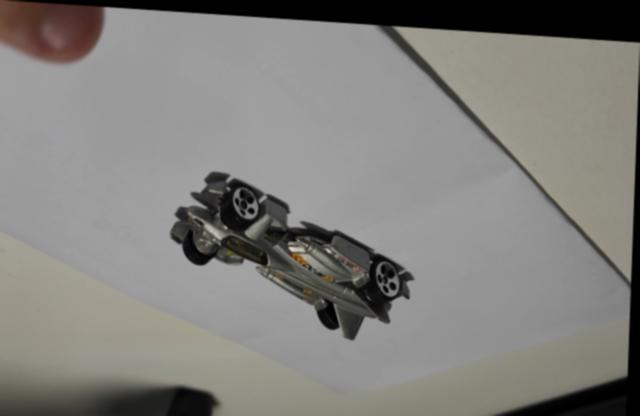05_DC121: (171, 169, 416, 337)
